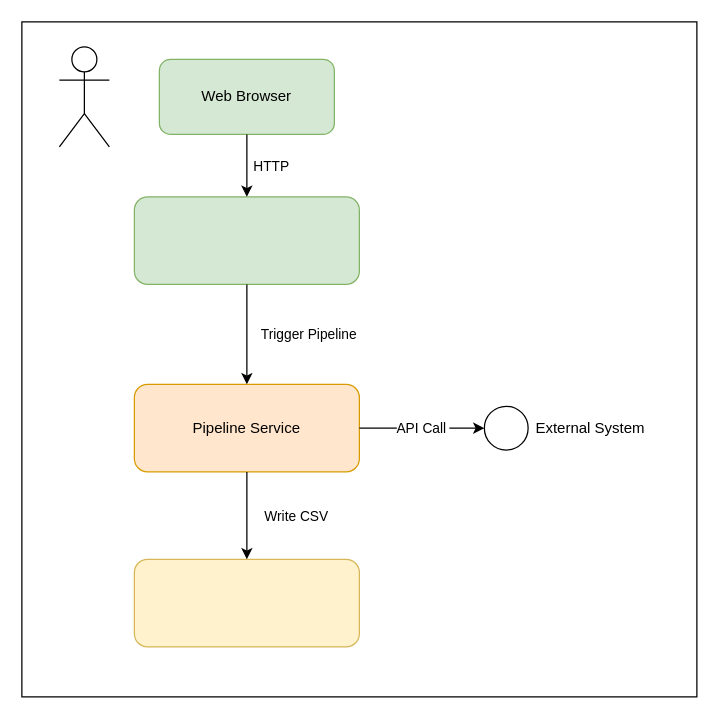
Some shapes in this 719 by 719 pixel diagram are drawn without their labels. Here are the shapes that lost their labels. From the top down, the box of each, then its label:
(133, 196, 359, 284): Web App Server
(133, 558, 359, 647): Database
